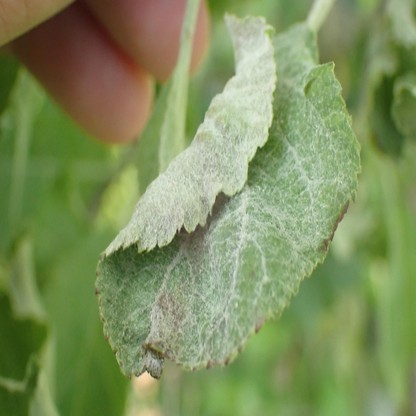powder: (96, 11, 360, 380)
